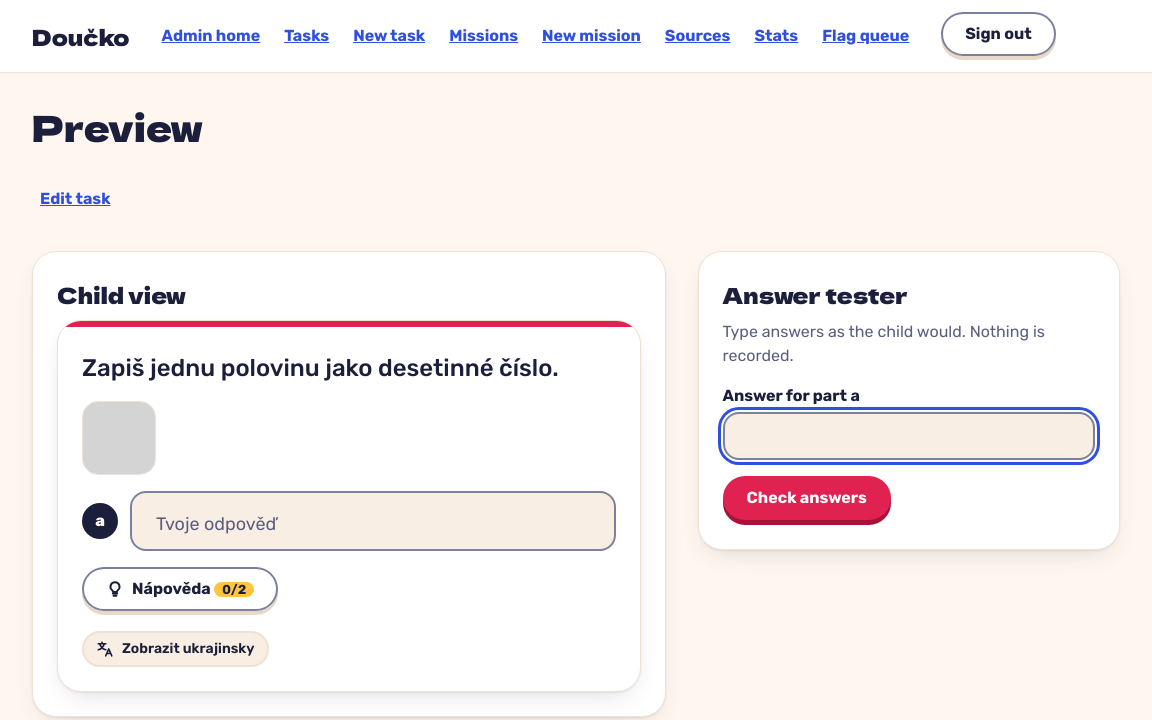
it: answer tester after a refusal (review F10) › drops the old verdicts and shows the server refusal
The width and height of the screenshot is (1152, 720).
Check: the heading "Preview" is shown, box [32,100,202,152]
Check: the element "Child view" is shown, box [32,251,666,717]
Type "0,5" into the field labelled "Answer for part a" at (909, 436), box [723,412,1095,460]
Then press Enter
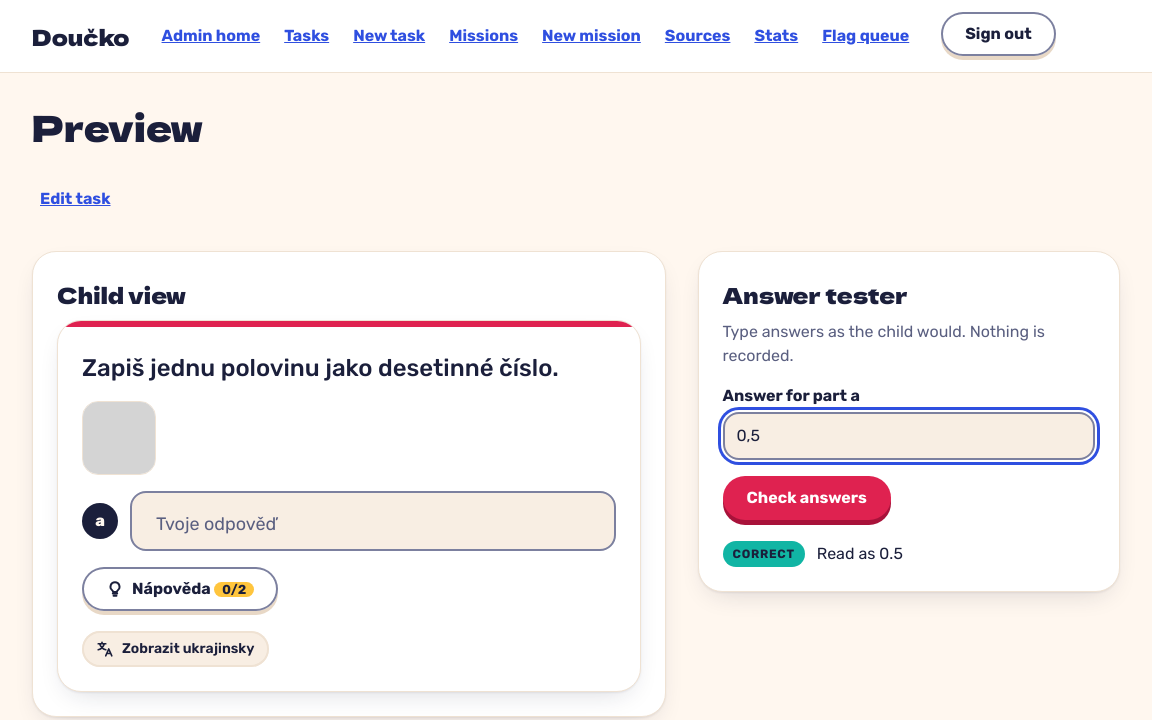
Click the button "Check answers" at (807, 498), box [723,476,891,520]
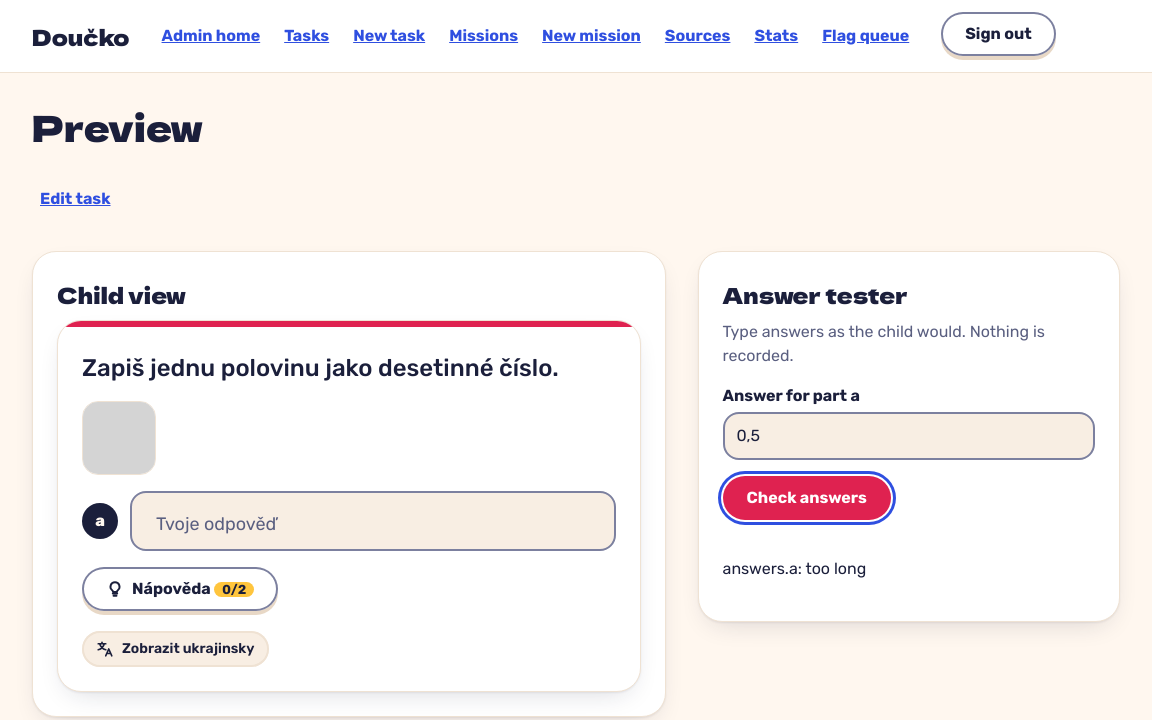
Check: the message reads "answers.a: too long", box [723,559,866,578]
